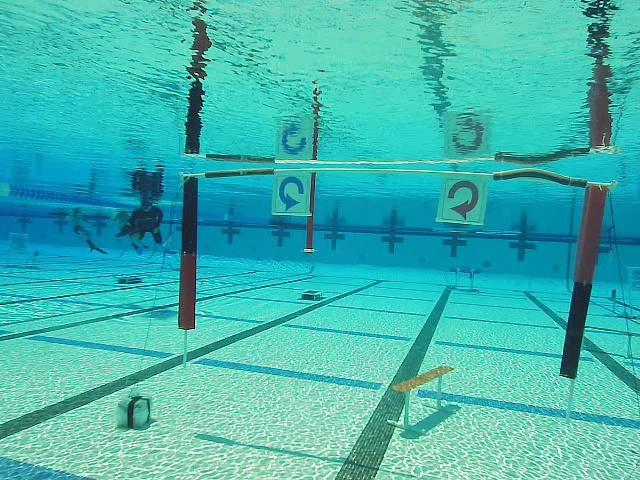gate: (178, 169, 610, 380)
gate_blue: (273, 172, 312, 215)
gate_leg_l: (178, 174, 198, 330)
gate_leg_r: (561, 183, 608, 379)
gate_red: (438, 178, 487, 225)
table: (449, 266, 481, 292)
